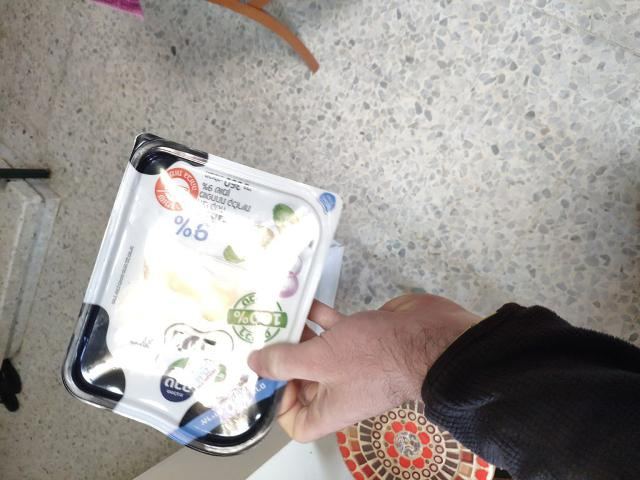cheese: (91, 169, 289, 438)
